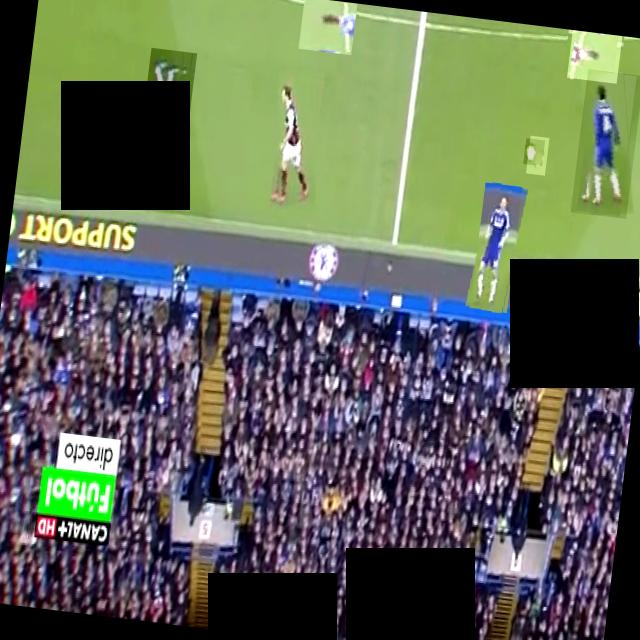ball: (525, 134, 548, 174), (522, 136, 544, 164)
soccer-player: (569, 67, 640, 217), (131, 46, 196, 206), (264, 65, 328, 212), (465, 180, 525, 314), (297, 0, 356, 53), (566, 28, 621, 82)
